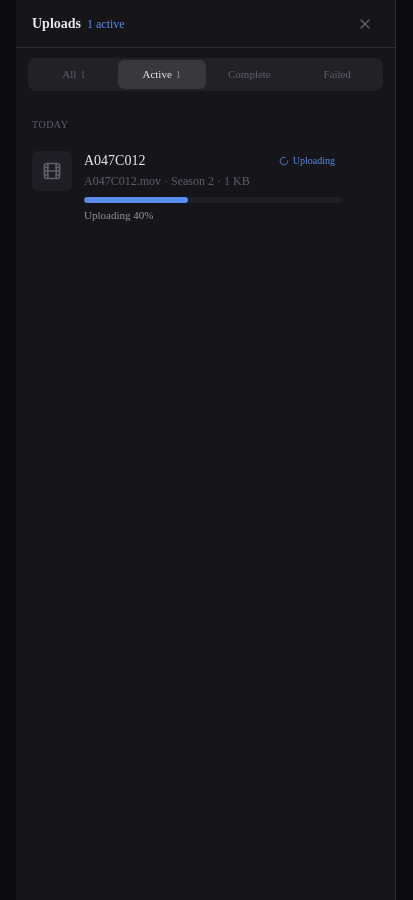
renaming from the uploads panel › saves on Enter
Click the button "A047C012": (159, 160) [84,150,235,170]
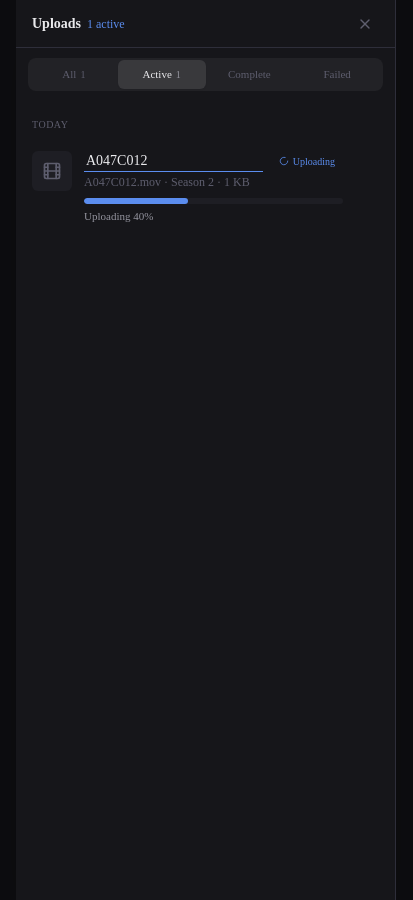
Replace the text in the field named "Asset name" with "Ep04 Rohschnitt": (173, 161) [84,150,263,172]
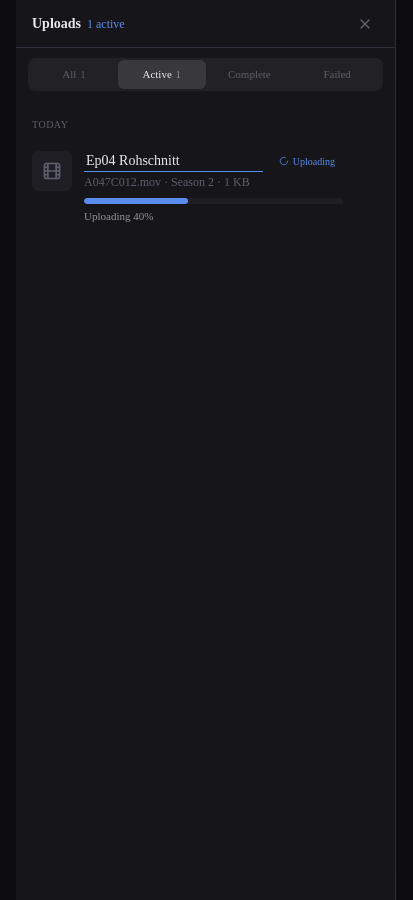
Press Enter in the field named "Asset name", box [84,150,263,172]
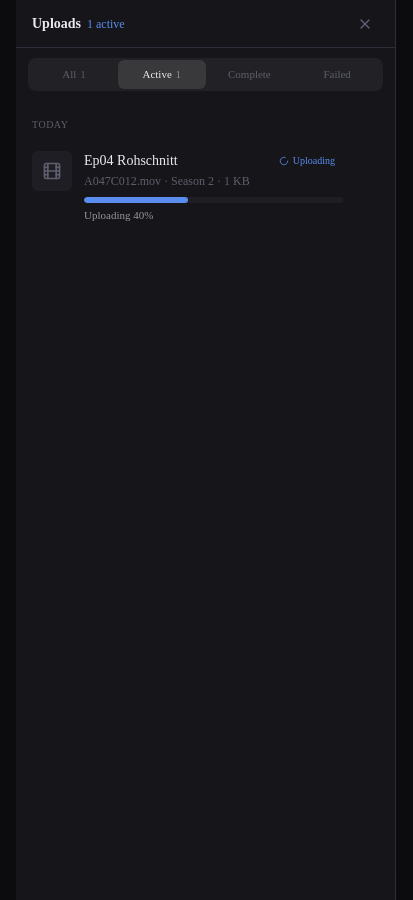
Result: the button "Ep04 Rohschnitt" is shown at [84,150,235,170]
